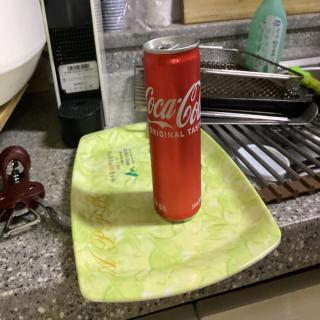cocacola: (142, 32, 203, 224)
